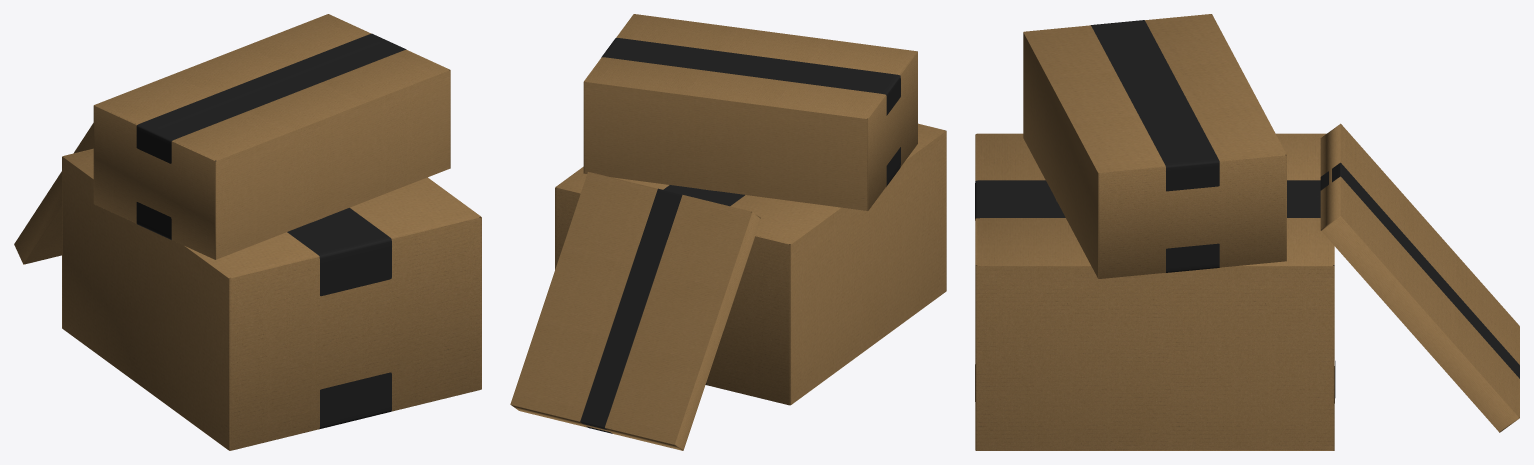
The model's file is boxes.glb.
3 renders of one model, left to right at view 1: azimuth 30°, elevation 25°; view 2: azimuth 150°, elevation 25°; view 3: azimuth 270°, elevation 25°, orthographic. The views are drawn at different scales.
Visible parts, largest first — view 1: Object_3, Object_2; view 2: Object_3, Object_2; view 3: Object_3, Object_2.
Boxes of the visible parts, left/top/right/bottom form: Object_3: left=14, top=14, right=481, bottom=450; Object_2: left=136, top=33, right=406, bottom=428; Object_3: left=510, top=14, right=946, bottom=450; Object_2: left=580, top=38, right=900, bottom=433; Object_3: left=975, top=14, right=1519, bottom=450; Object_2: left=975, top=20, right=1519, bottom=403.
Bounding box in the file's own units: 3.9 × 3.36 × 5.64.
Materials: 2 (1 with a texture image).
